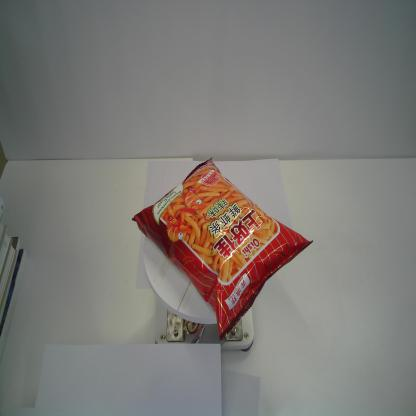Puffed Food: (131, 157, 314, 341)
